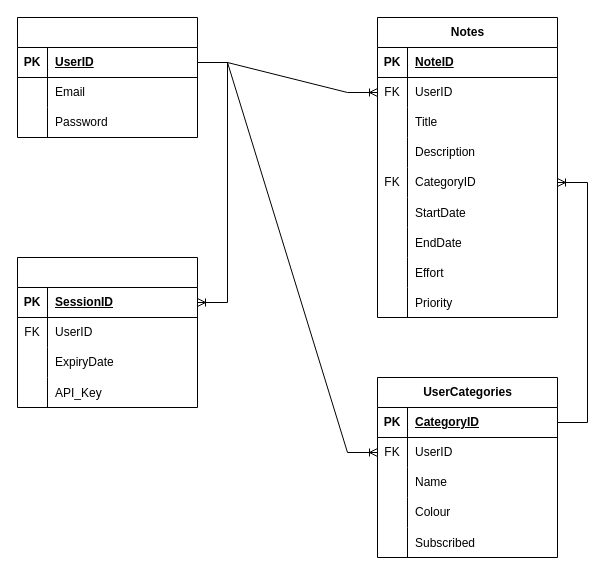
The diagram is 613 pixels wide and 575 high, and some of its shapes have lost their labels. The box of each missing label's shape, as (x1, y1, x2, y2) in pixels:
Sessions: (16, 256, 198, 408)
Users: (16, 16, 198, 138)
